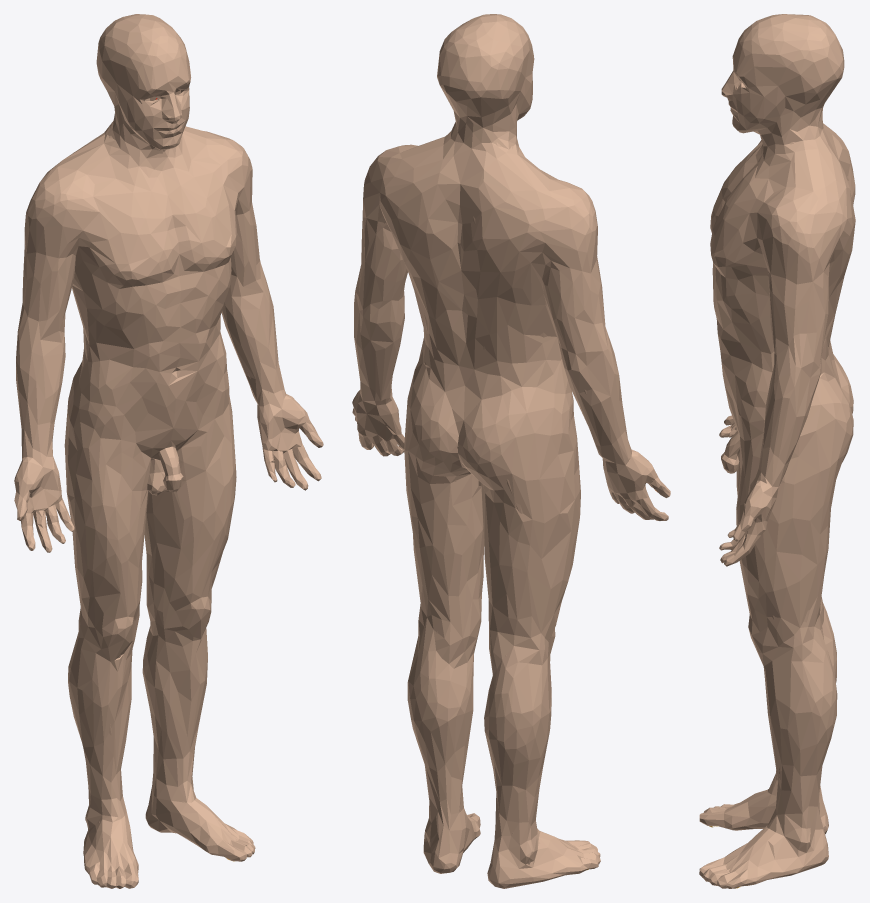
Rendered from arteries.glb.
3 renders of one model, left to right at view 1: azimuth 30°, elevation 25°; view 2: azimuth 150°, elevation 25°; view 3: azimuth 270°, elevation 25°, orthographic. The views are drawn at different scales.
Visible parts, largest first — view 1: skin; view 2: skin; view 3: skin.
Part boxes in pixels (x1,y1,x2,y2): skin: (14, 14, 323, 888); skin: (352, 14, 670, 888); skin: (699, 14, 855, 888).
Bounding box in the file's own units: 0.6672 × 1.72 × 0.2924.
